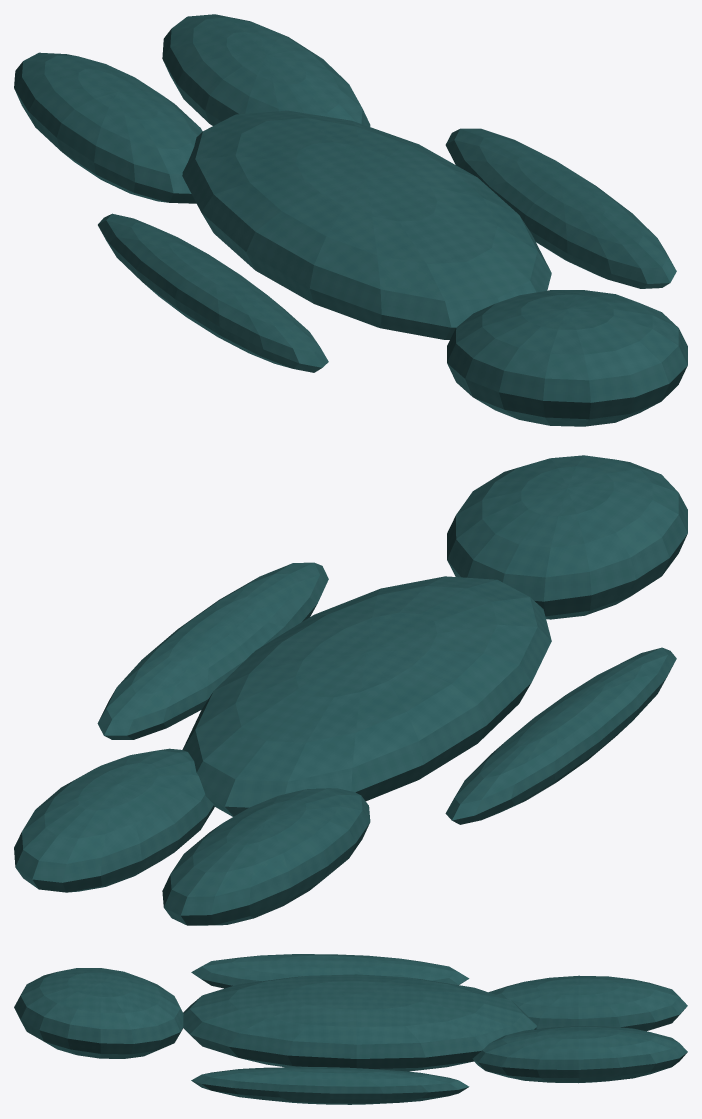
File: StarAtlasBodyFit_AST-RST-QC-001.glb
3 views of the same model, one above another, from view 1: azimuth 30°, elevation 25°; view 2: azimuth 150°, elevation 25°; view 3: azimuth 270°, elevation 25° (orthographic). The views are drawn at different scales.
Parts seen in each view (by area): view 1: SegmentedThorax, HeadReference, LeftFoldedLeg, RightArm, RightFoldedLeg, LeftArm; view 2: SegmentedThorax, HeadReference, RightFoldedLeg, LeftFoldedLeg, RightArm, LeftArm; view 3: SegmentedThorax, HeadReference, RightFoldedLeg, RightArm, LeftFoldedLeg, LeftArm.
Boxes of the visible parts, box(x1,y1,x2,y2) form: SegmentedThorax: box(182, 110, 551, 339); HeadReference: box(447, 290, 687, 426); LeftFoldedLeg: box(14, 52, 202, 203); RightArm: box(445, 128, 676, 288); RightFoldedLeg: box(162, 14, 370, 126); LeftArm: box(98, 213, 328, 372); SegmentedThorax: box(182, 576, 551, 816); HeadReference: box(447, 455, 687, 619); RightFoldedLeg: box(14, 748, 214, 892); LeftFoldedLeg: box(162, 788, 370, 925); RightArm: box(97, 562, 328, 739); LeftArm: box(445, 647, 676, 824); SegmentedThorax: box(183, 974, 536, 1071); HeadReference: box(14, 968, 183, 1058); RightFoldedLeg: box(472, 1026, 687, 1083); RightArm: box(191, 1067, 469, 1104); LeftFoldedLeg: box(488, 975, 687, 1031); LeftArm: box(191, 954, 469, 988).
Bounding box in the file's own units: 0.83 × 0.2226 × 1.79.
Materials: 1 (1 with a texture image).
